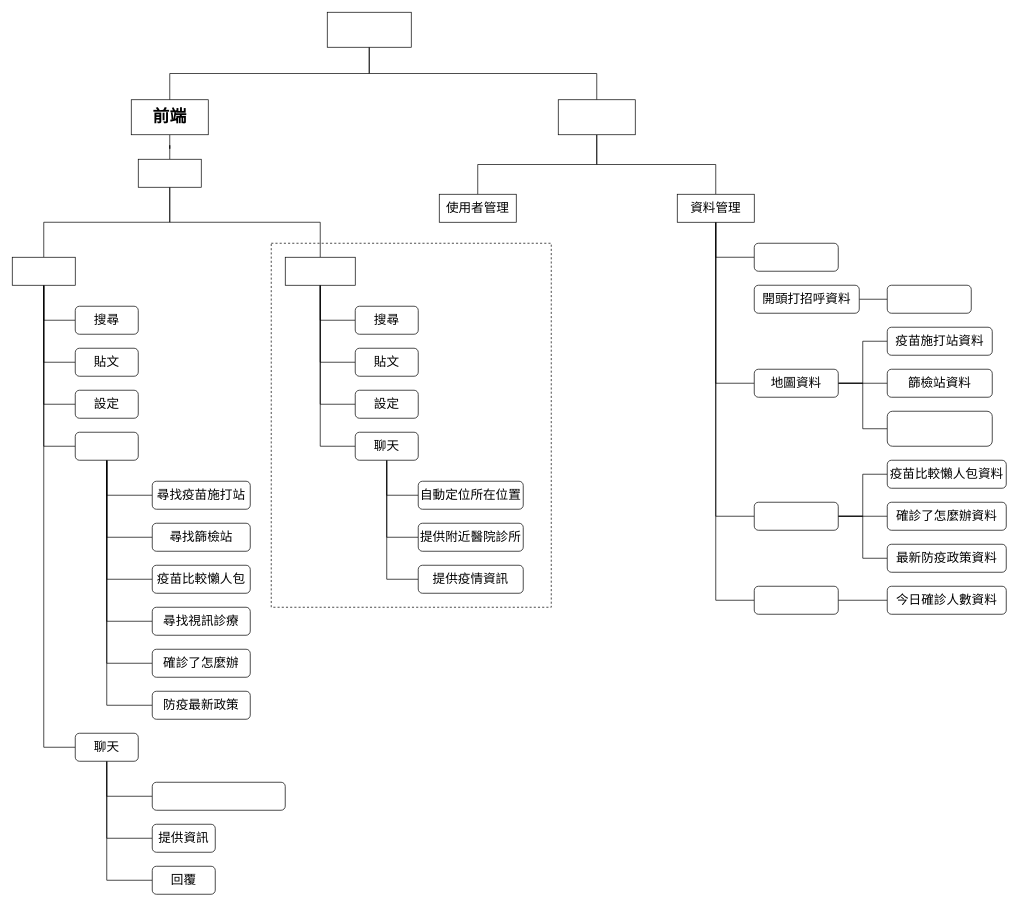
Some shapes in this 1019 by 907 pixel diagram are drawn without their labels. Here are the shapes that lost their labels. From the top down, the centre of each, then its label:
point 369,29: LiCo檢疫
point 596,117: 後端
point 169,173: 主頁
point 43,271: 聊天室
point 320,271: 聊天機器人
point 796,257: 聊天資料
point 929,299: 歡迎資料
point 106,446: 快捷選單
point 939,428: 有視訊診療服務的醫院診所資料
point 796,516: 圖片資料
point 796,600: 確診人數資料
point 218,796: 地圖顯附近醫院診所
